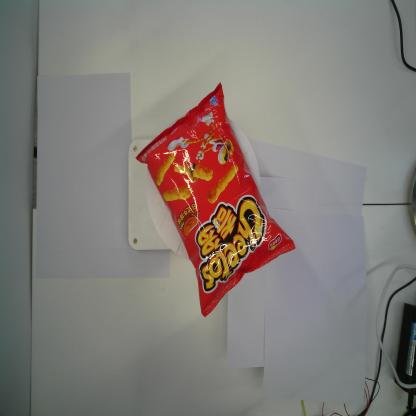Puffed Food: (134, 80, 297, 321)
